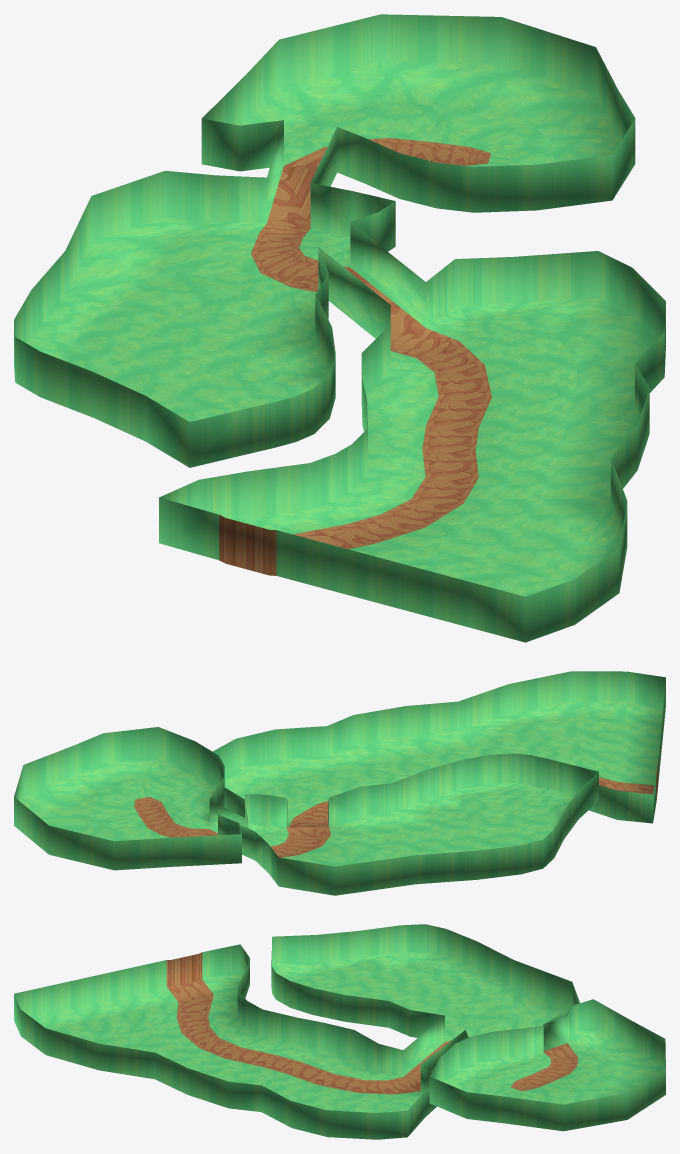
Rendered from terrain_col.glb.
3 views of the same model, one above another, from view 1: azimuth 30°, elevation 25°; view 2: azimuth 150°, elevation 25°; view 3: azimuth 270°, elevation 25° (orthographic). The views are drawn at different scales.
Visible parts, largest first — view 1: terrain.002; view 2: terrain.002; view 3: terrain.002.
Boxes of the visible parts, x1,y1,x2,y2 form: terrain.002: (14, 14, 665, 642); terrain.002: (14, 671, 665, 895); terrain.002: (14, 924, 665, 1139).
Bounding box in the file's own units: 32.59 × 5.31 × 44.09.
2 materials, 2 textured.
